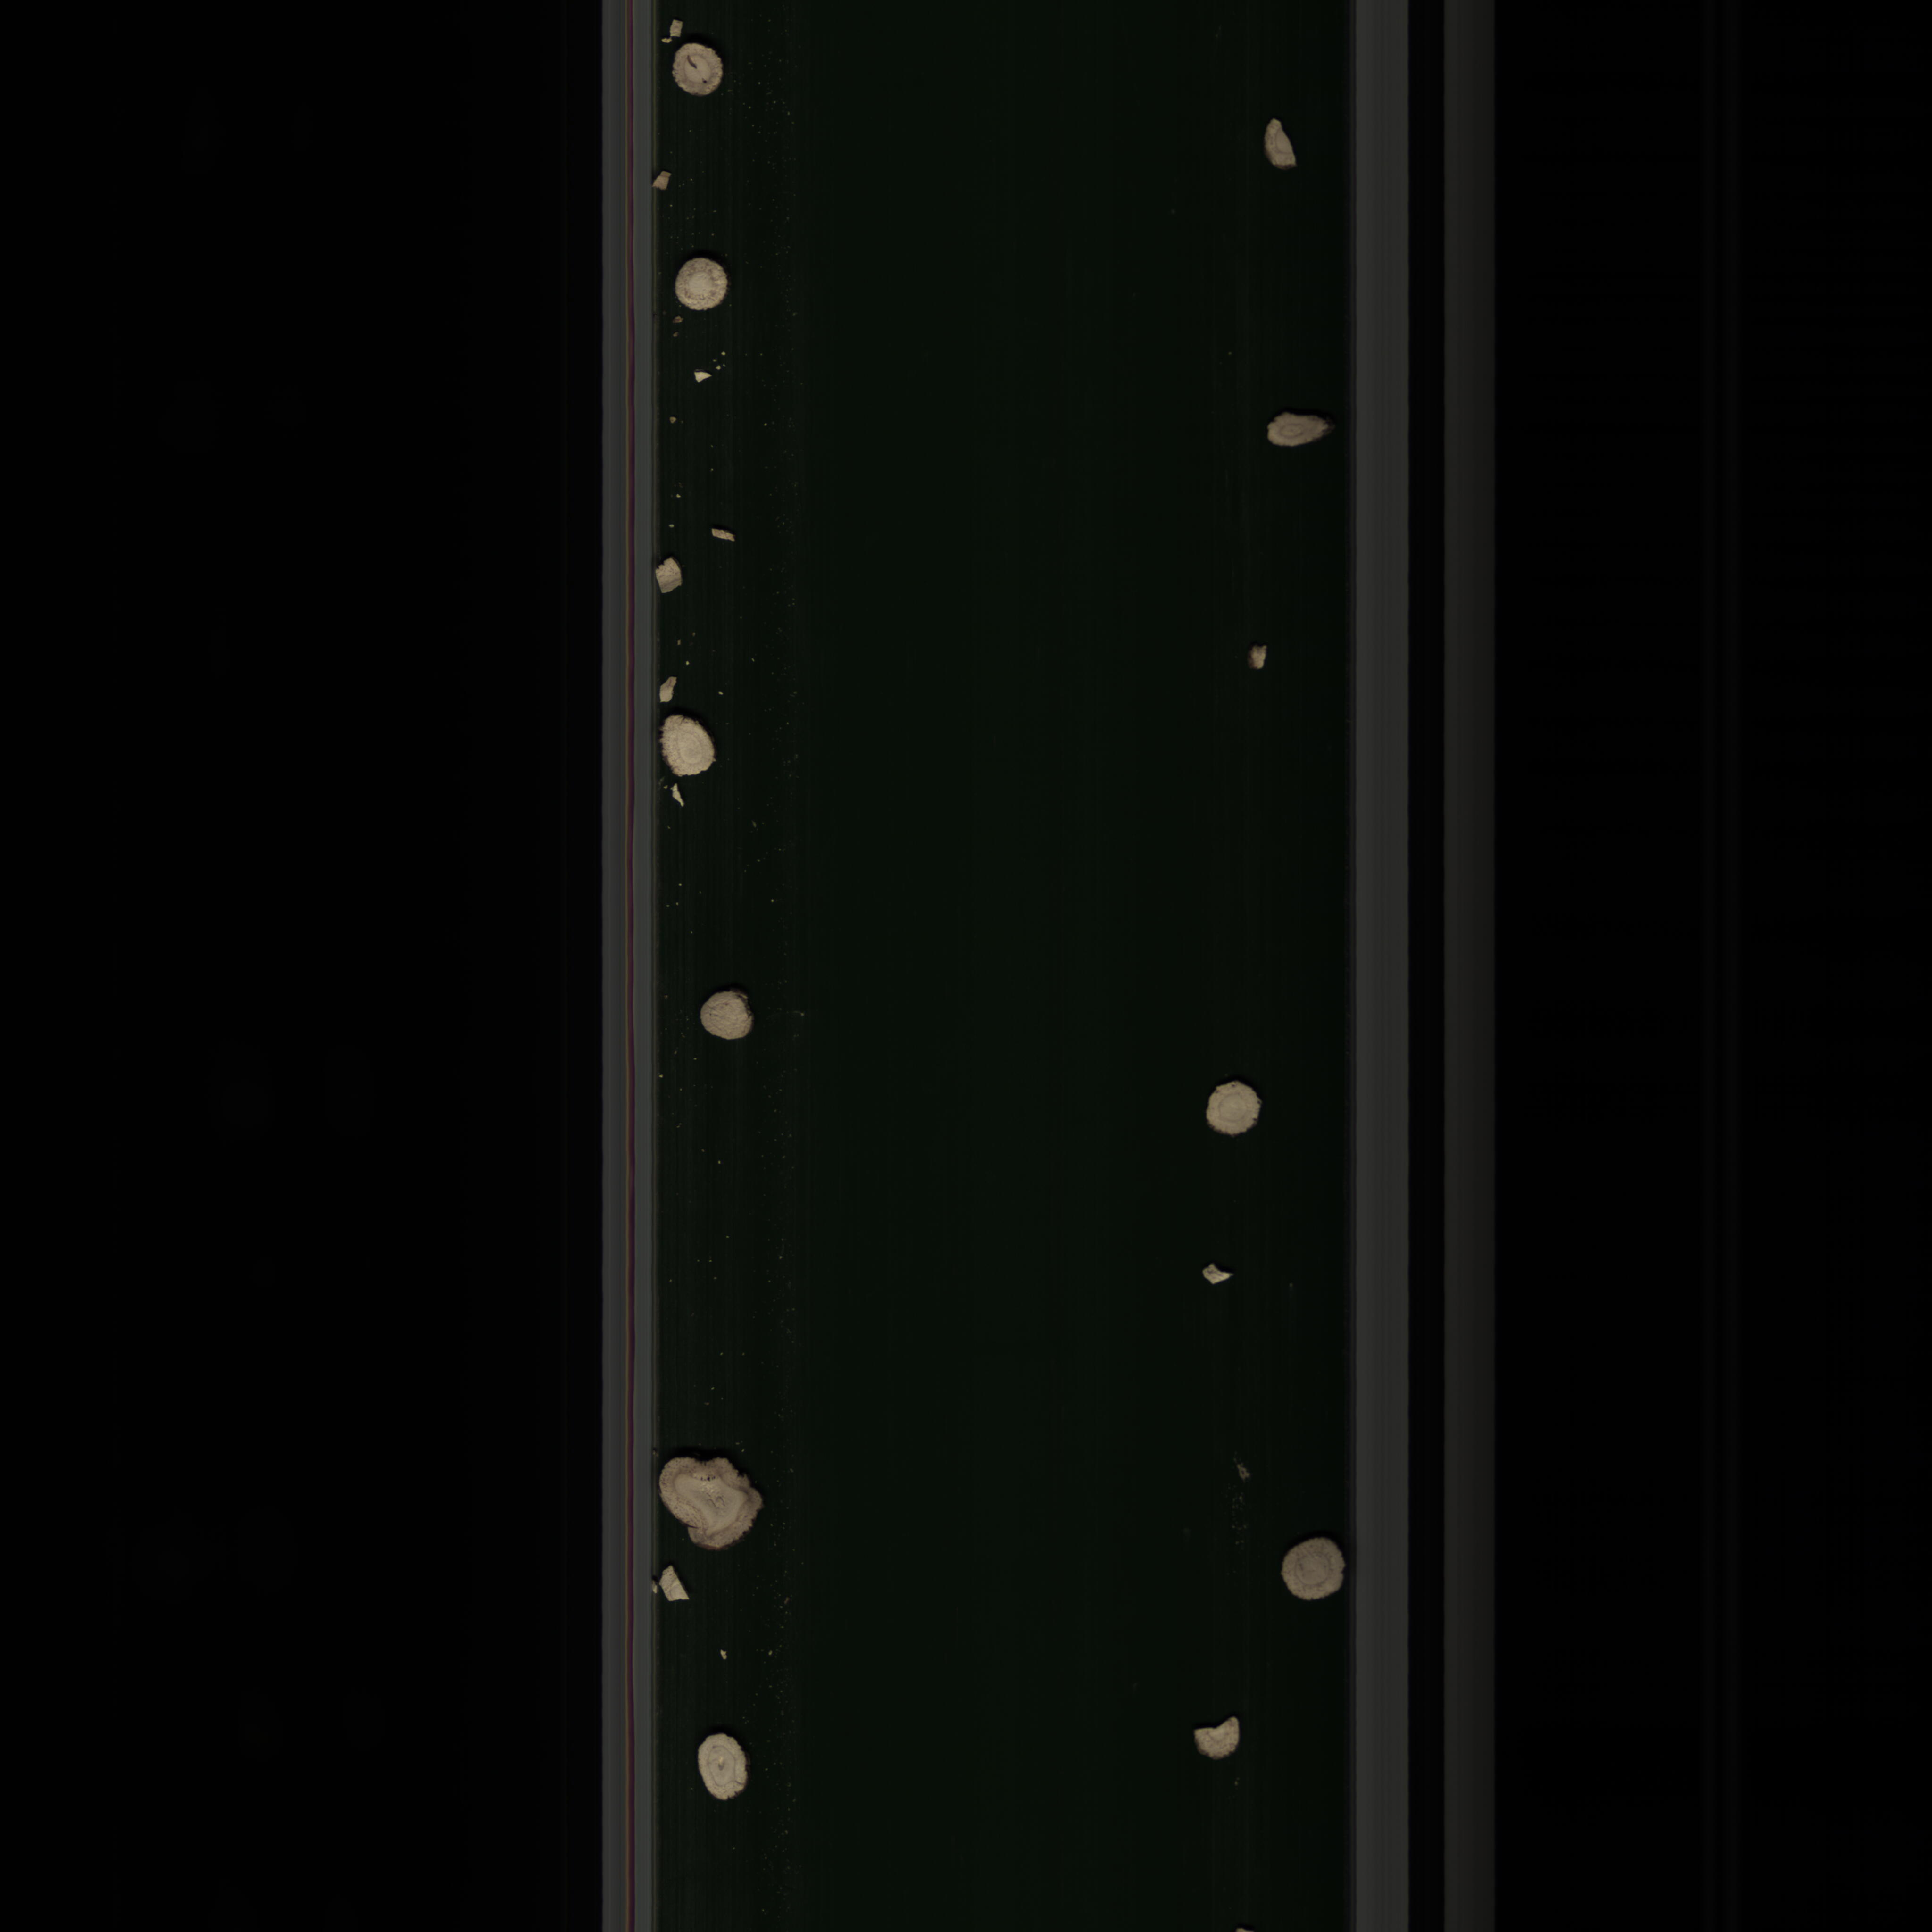debris: (1189, 1707, 1256, 1773), (1256, 106, 1302, 177), (646, 557, 702, 600), (1198, 1260, 1246, 1292), (1238, 640, 1279, 678), (656, 1568, 694, 1608)
distortion: (656, 1447, 768, 1557), (1256, 407, 1338, 456)
hole: (669, 34, 745, 108)
